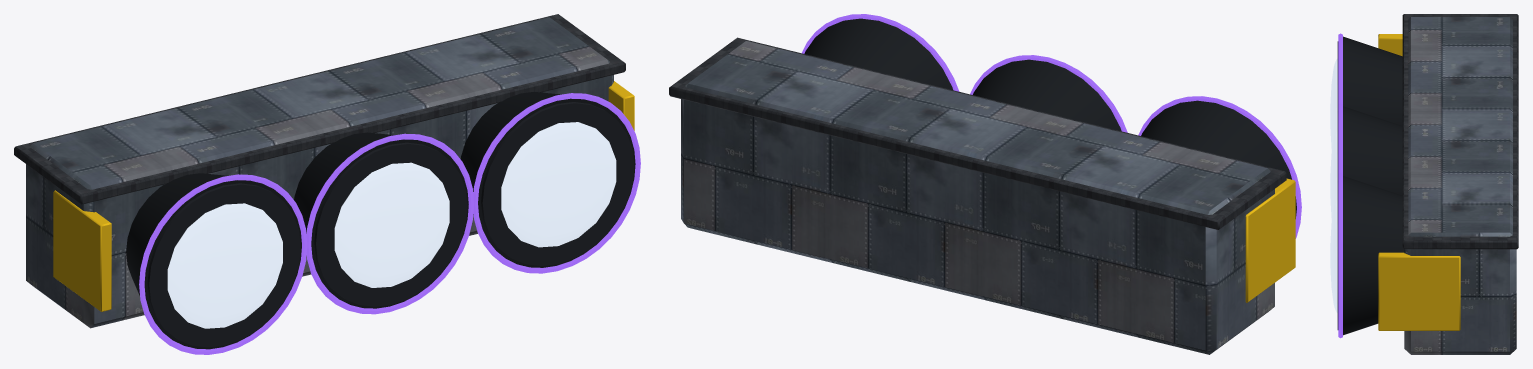
The model's file is arch_engine_cluster.glb.
3 renders of one model, left to right at view 1: azimuth 30°, elevation 25°; view 2: azimuth 150°, elevation 25°; view 3: azimuth 270°, elevation 25°, orthographic. The views are drawn at different scales.
Visible parts, largest first — view 1: arch_engine_cluster; view 2: arch_engine_cluster; view 3: arch_engine_cluster.
Part boxes in pixels (box(x1,y1,x2,y2)): arch_engine_cluster: box(14, 14, 640, 354); arch_engine_cluster: box(669, 14, 1301, 354); arch_engine_cluster: box(1330, 14, 1518, 354).
Bounding box in the file's own units: 14.4 × 4.44 × 5.03.
7 materials, 2 textured.
